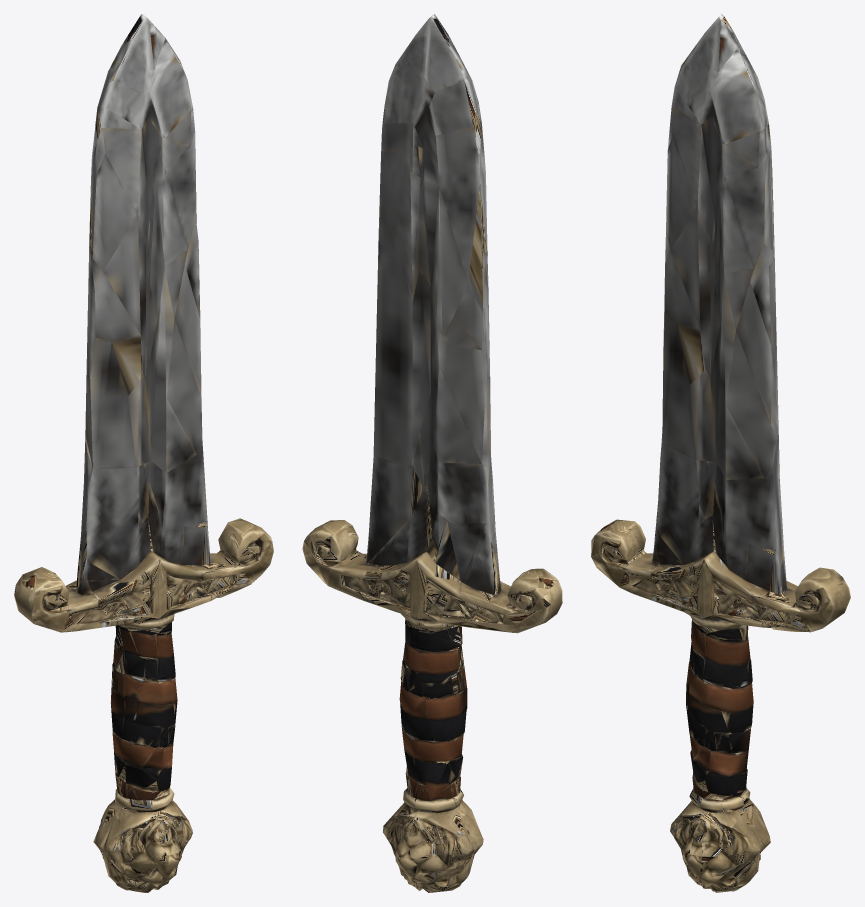
The model's file is broadsword.glb.
3 views of the same model, side by side, from view 1: azimuth 30°, elevation 25°; view 2: azimuth 150°, elevation 25°; view 3: azimuth 330°, elevation 25° (orthographic).
Visible parts, largest first — view 1: Mesh_0; view 2: Mesh_0; view 3: Mesh_0.
Part boxes in pixels (bbox=[...]): Mesh_0: bbox=[14, 14, 273, 892]; Mesh_0: bbox=[302, 14, 562, 892]; Mesh_0: bbox=[591, 14, 850, 892].
Bounding box in the file's own units: 0.2952 × 1 × 0.1215.
1 material, 1 textured.
